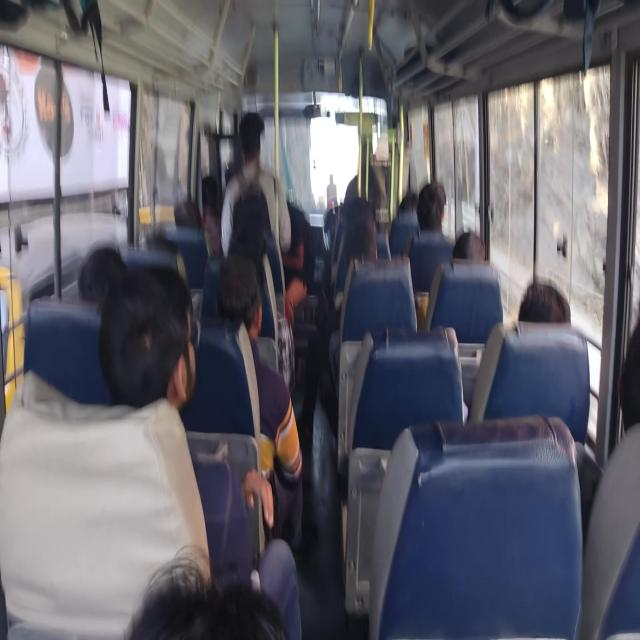person: (80, 245, 302, 637), (216, 253, 303, 549), (123, 543, 289, 639), (97, 259, 198, 412), (220, 111, 292, 257), (328, 199, 378, 385), (77, 242, 127, 309), (517, 278, 571, 324), (416, 181, 447, 237), (451, 229, 486, 262)
